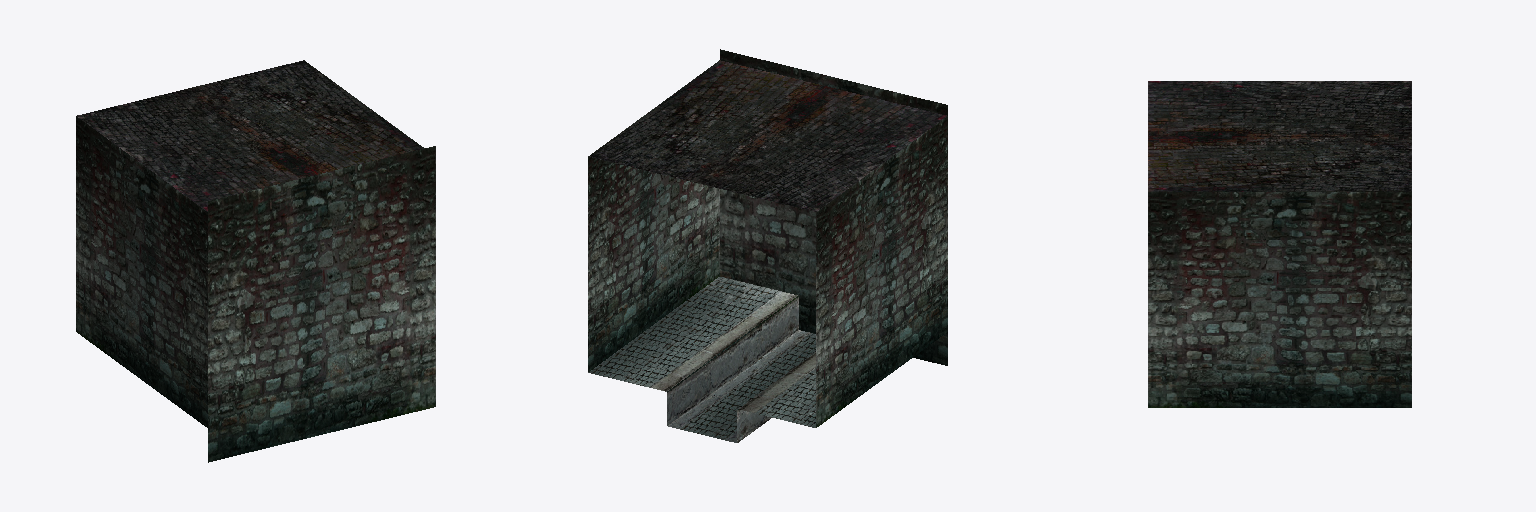
3 views of the same model, side by side, from view 1: azimuth 30°, elevation 25°; view 2: azimuth 150°, elevation 25°; view 3: azimuth 270°, elevation 25° (orthographic).
Parts seen in each view (by area): view 1: polySurface13; view 2: polySurface13; view 3: polySurface13.
Boxes of the visible parts, box(x1,y1,x2,y2) form: polySurface13: box(76, 60, 435, 462); polySurface13: box(588, 49, 947, 442); polySurface13: box(1148, 81, 1411, 407).
Size of the model in its own units: 305 by 334 by 305.
1 materials, 1 textured.